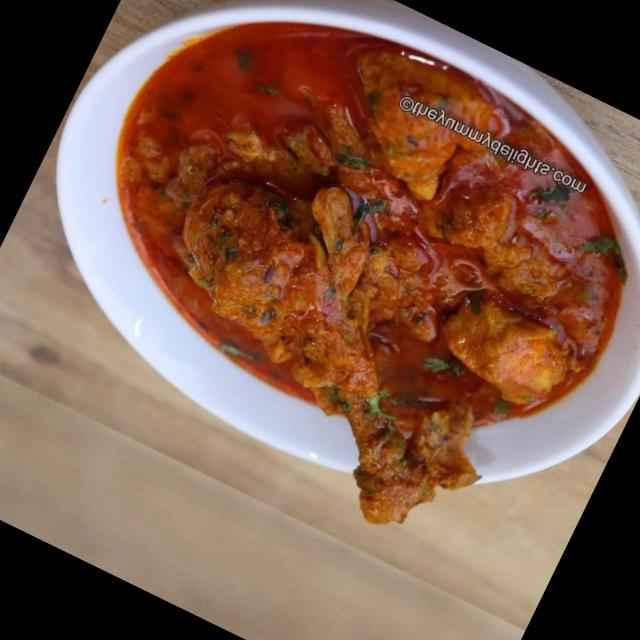chicken: (78, 0, 640, 523)
